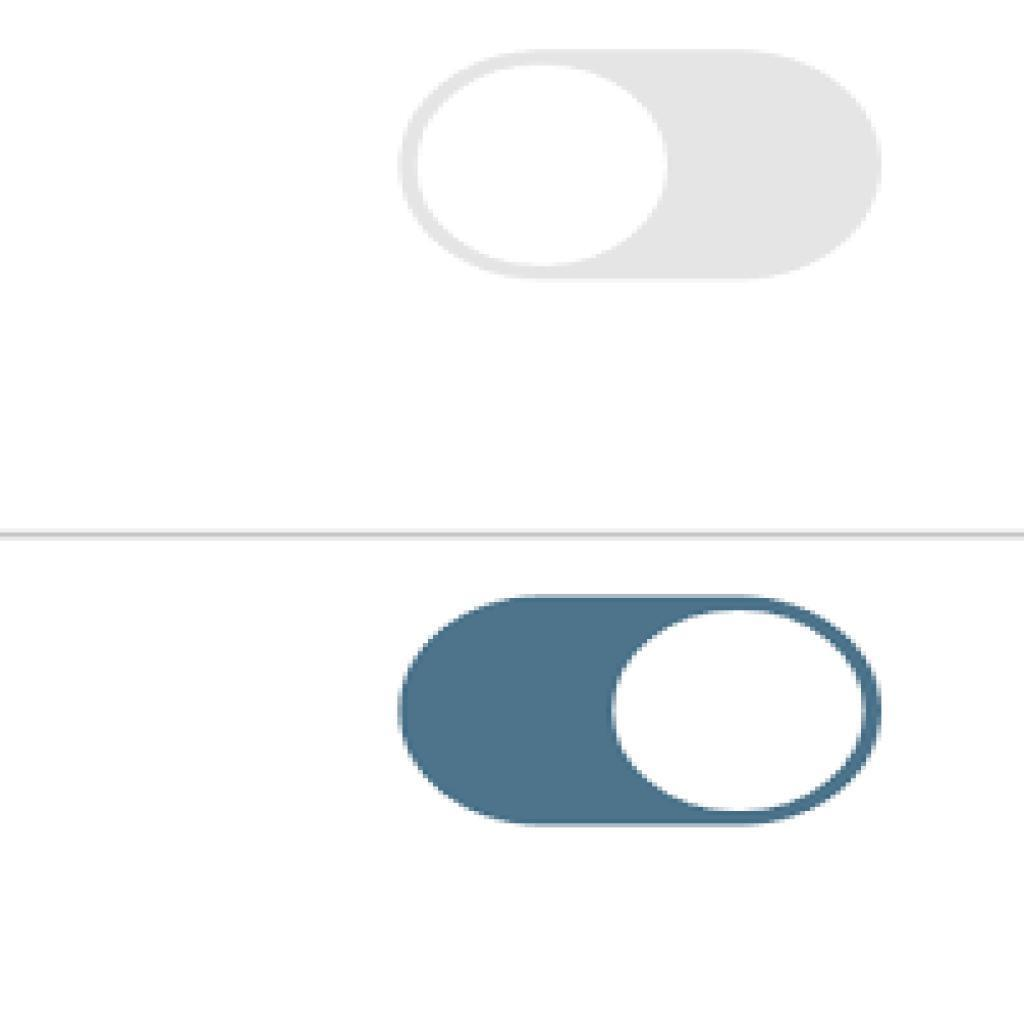switch: (399, 597, 883, 828), (404, 51, 884, 279)
